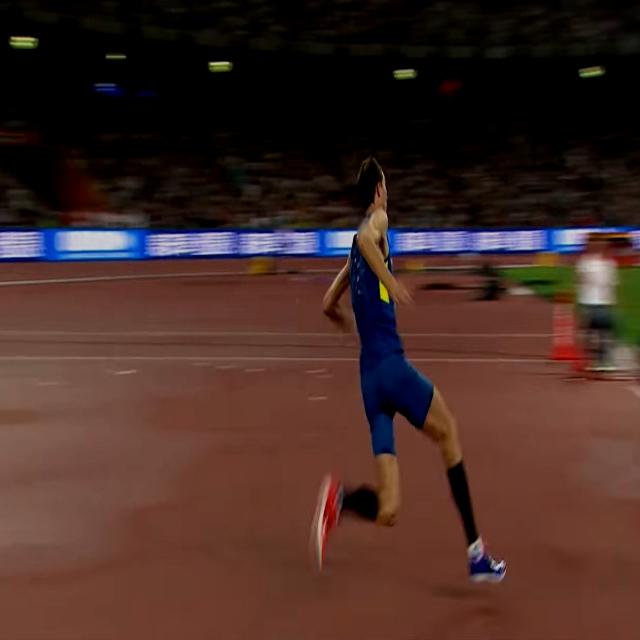run: (309, 155, 508, 587)
